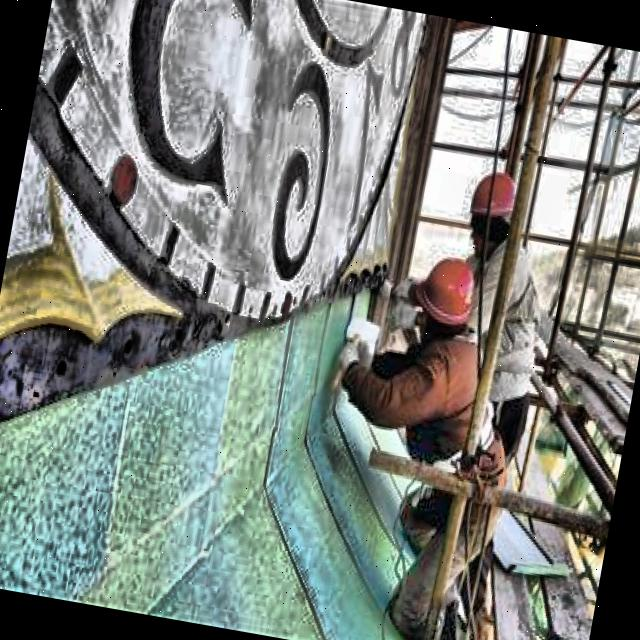helmet: (401, 238, 489, 350), (464, 162, 521, 267)
